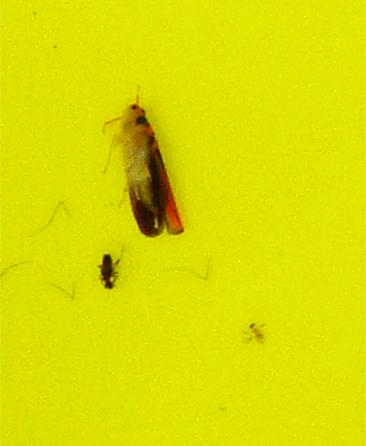Brachycera: (247, 317, 266, 346)
Coleoptera: (100, 252, 123, 296)
Hemiptera: (116, 100, 187, 242)
